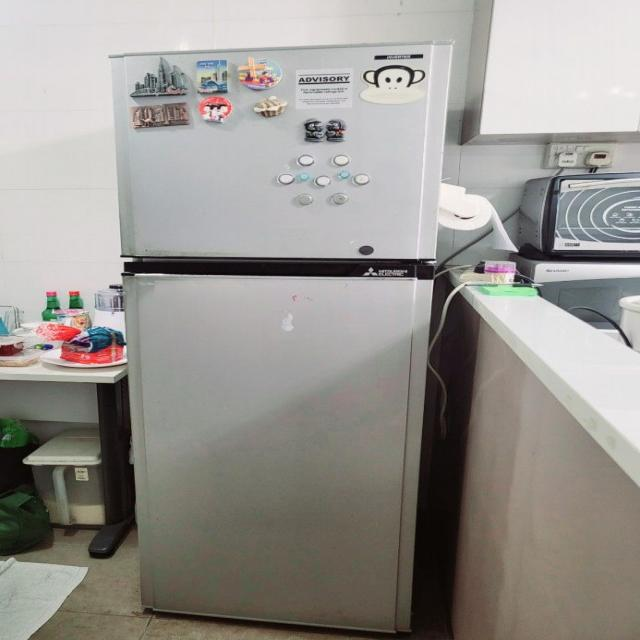refrigerator: (106, 40, 457, 640)
